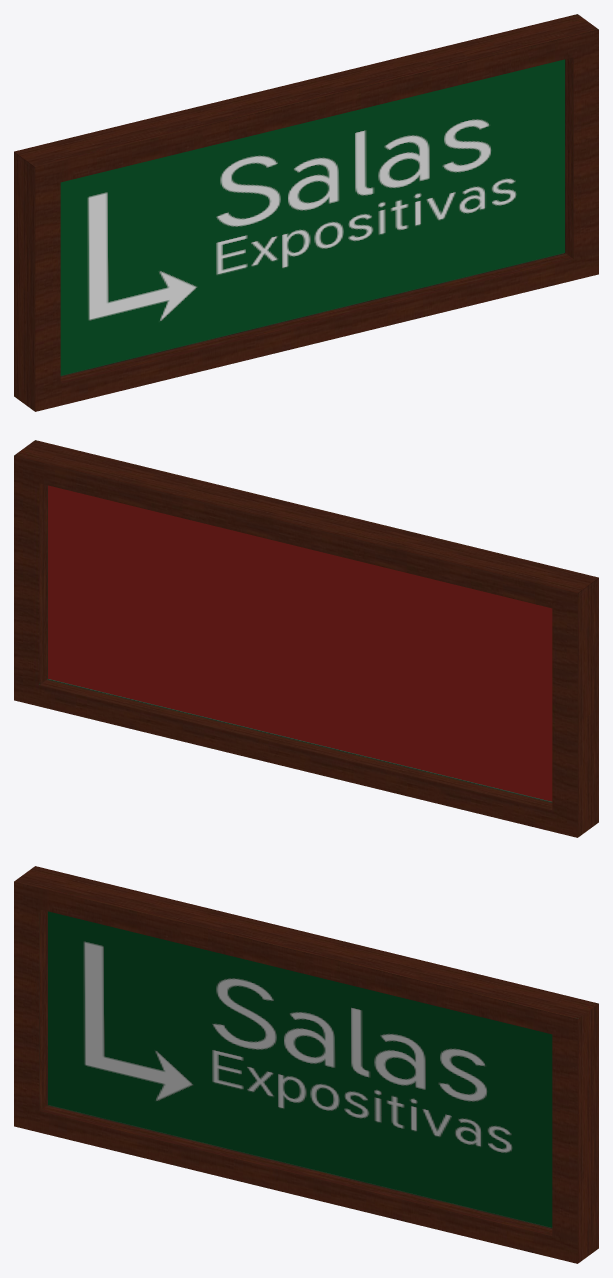
Rendered from low_poly_green_running_man_exit_sign_roms.glb.
3 views of the same model, one above another, from view 1: azimuth 30°, elevation 25°; view 2: azimuth 150°, elevation 25°; view 3: azimuth 330°, elevation 25° (orthographic).
Parts seen in each view (by area): view 1: exit-sign_Baked_0; view 2: exit-sign_Baked_0; view 3: exit-sign_Baked_0.
Boxes of the visible parts, x1,y1,x2,y2 form: exit-sign_Baked_0: (14, 14, 598, 411); exit-sign_Baked_0: (14, 440, 598, 837); exit-sign_Baked_0: (14, 866, 598, 1263).
Size of the model in its own units: 2.44 by 1.01 by 0.1593.
Materials: 3 (2 with a texture image).
